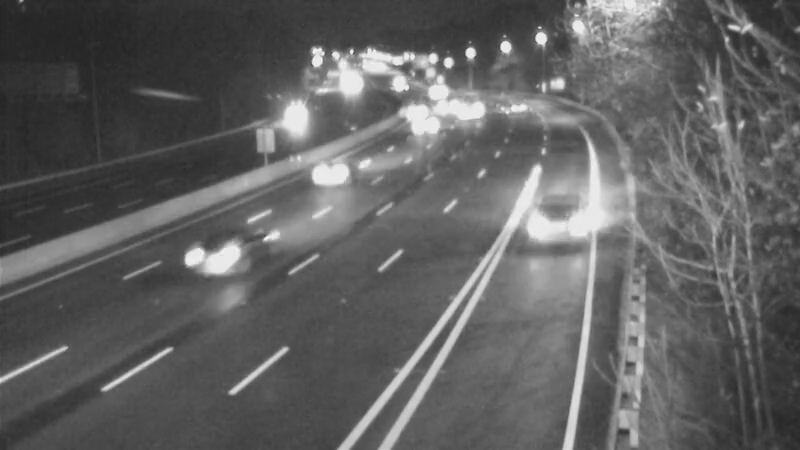vehicle: (283, 133, 363, 213), (522, 185, 602, 265), (177, 218, 257, 298), (412, 63, 462, 113), (418, 81, 468, 131), (443, 84, 493, 134), (383, 87, 433, 137), (495, 82, 545, 132), (397, 101, 447, 151), (262, 99, 312, 149)
